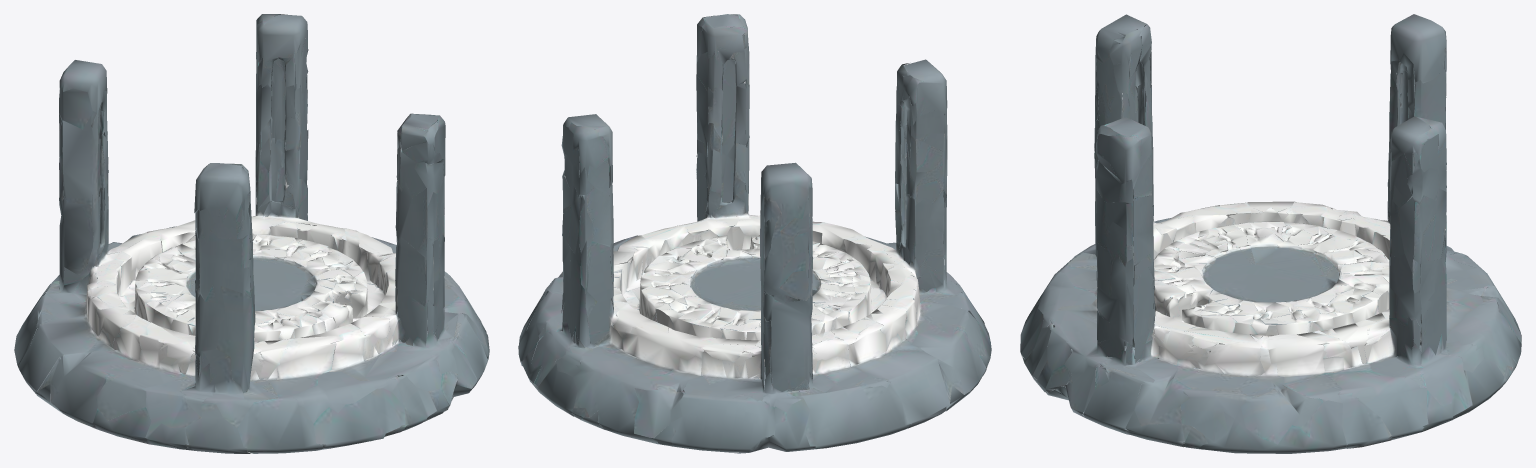
File: revive_beacon.glb
3 views of the same model, side by side, from view 1: azimuth 30°, elevation 25°; view 2: azimuth 150°, elevation 25°; view 3: azimuth 270°, elevation 25° (orthographic). The views are drawn at different scales.
Parts seen in each view (by area): view 1: Mesh_0; view 2: Mesh_0; view 3: Mesh_0.
Part boxes in pixels (left/top/right/bottom): Mesh_0: left=14, top=14, right=489, bottom=453; Mesh_0: left=518, top=14, right=991, bottom=453; Mesh_0: left=1020, top=14, right=1521, bottom=453.
Size of the model in its own units: 2.55 by 1.55 by 2.54.
Materials: 1 (1 with a texture image).
